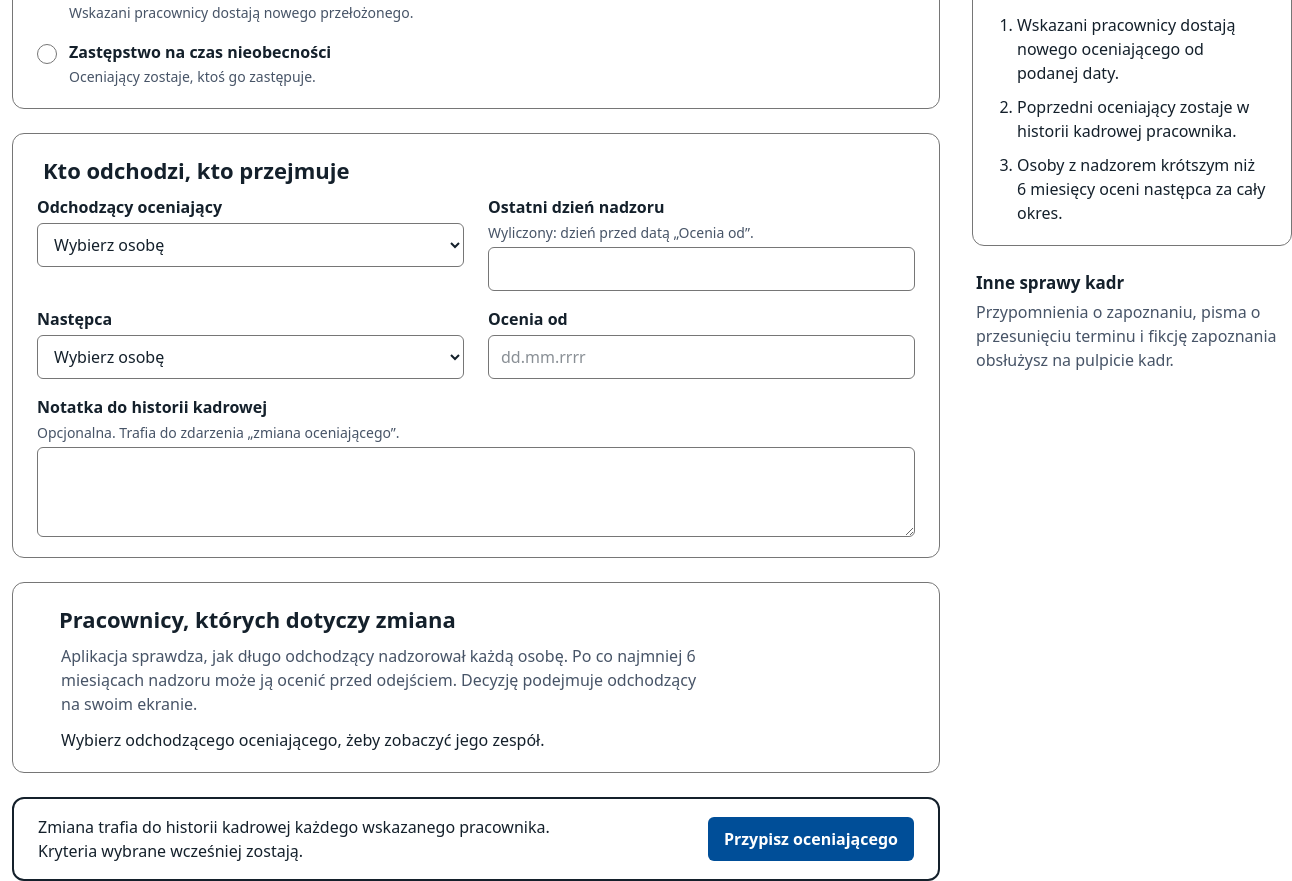
HrAssignPage › validates, then reassigns the selected reports to the successor
The image size is (1292, 881).
(page scrolled)
Click the button "Przypisz oceniającego" at [811, 839], box [708, 817, 914, 861]
(page scrolled)
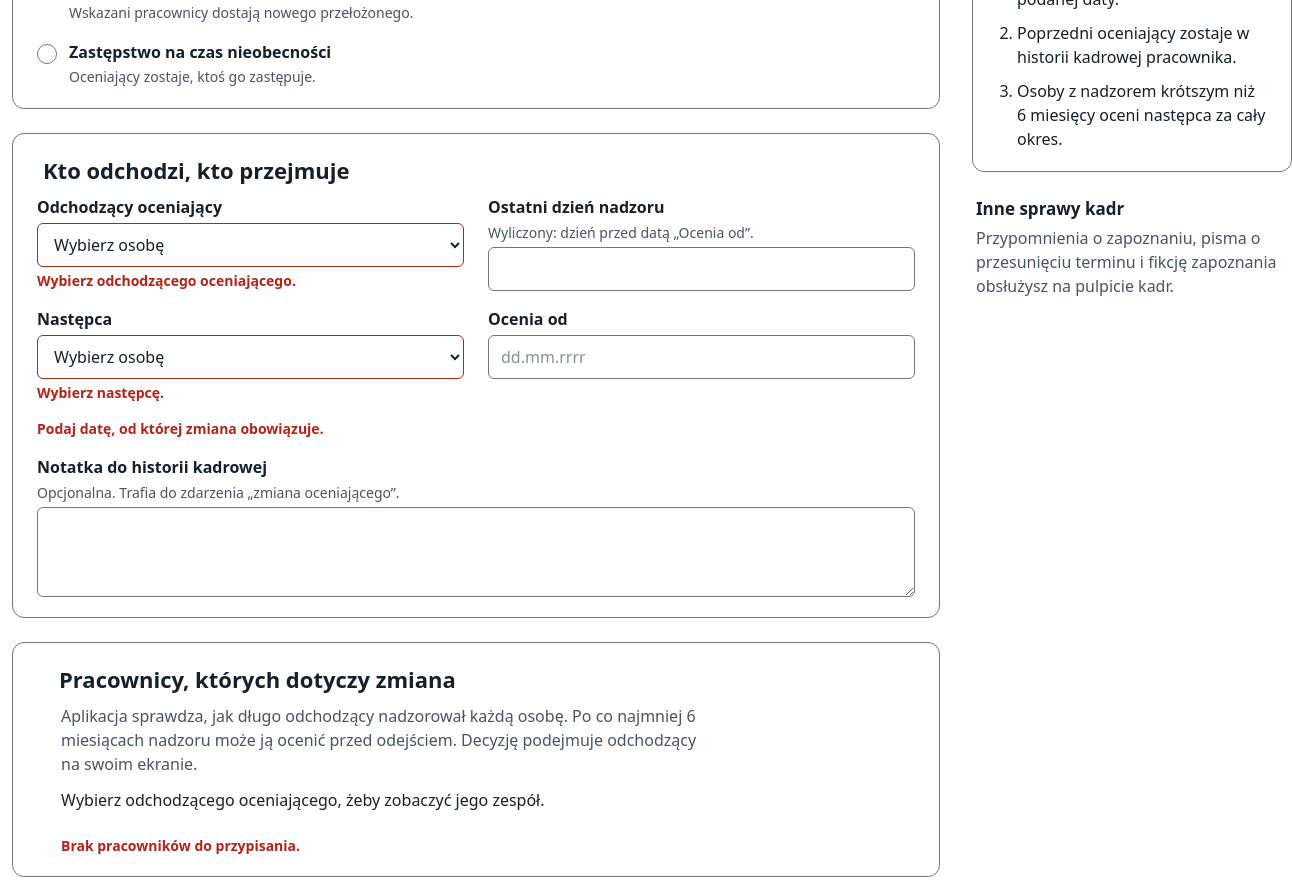
Now the text "Wybierz odchodzącego oceniającego." is shown, box [37, 271, 296, 290]
Select "Marta Test, Specjalista" in the dropdown labelled "Odchodzący oceniający" at [250, 245], box [37, 223, 464, 267]
(page scrolled)
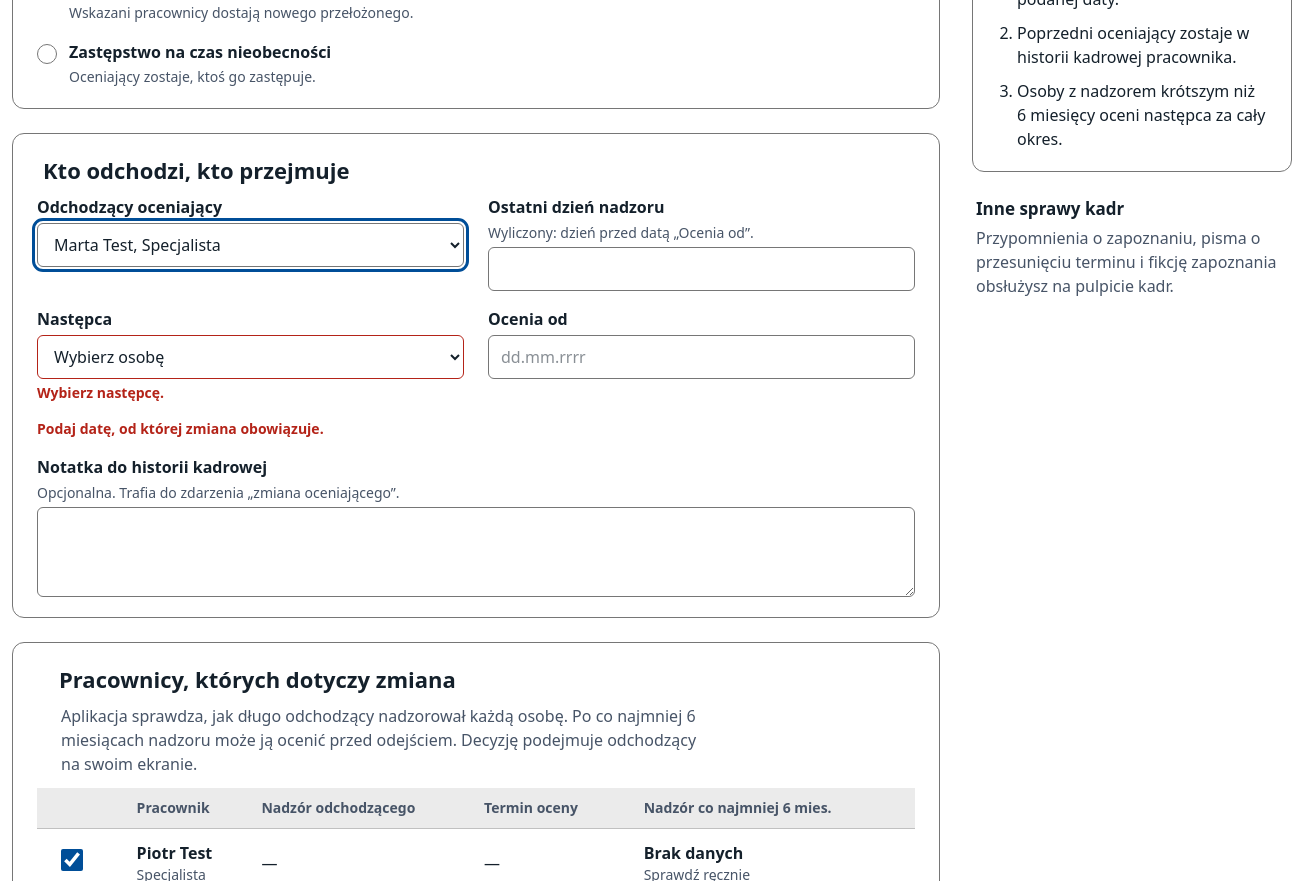
Select "Robert Test, Specjalista" in the dropdown labelled "Następca" at [250, 357], box [37, 335, 464, 379]
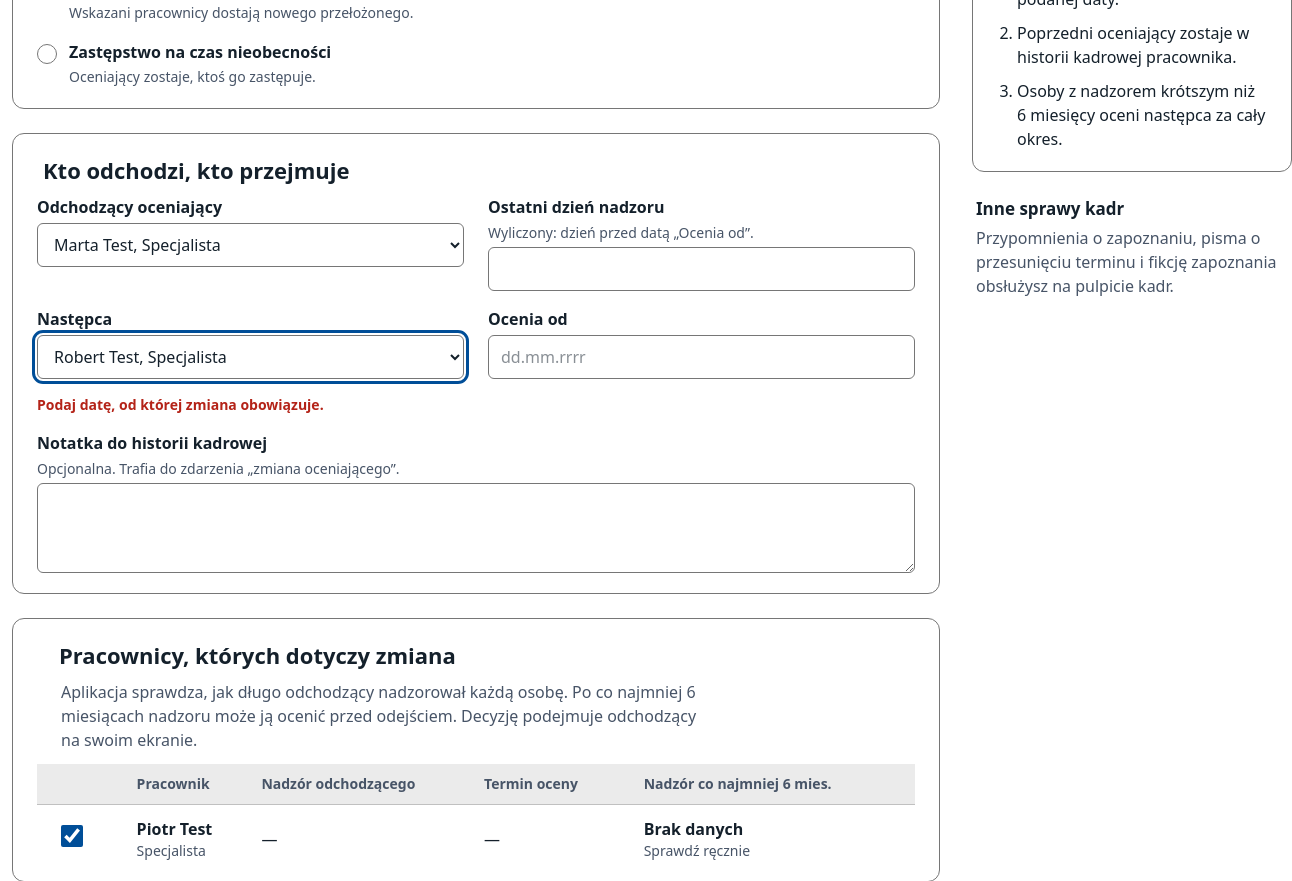
Type "01.01.2027" into the field labelled "Ocenia od" at [702, 357], box [488, 335, 915, 379]
(page scrolled)
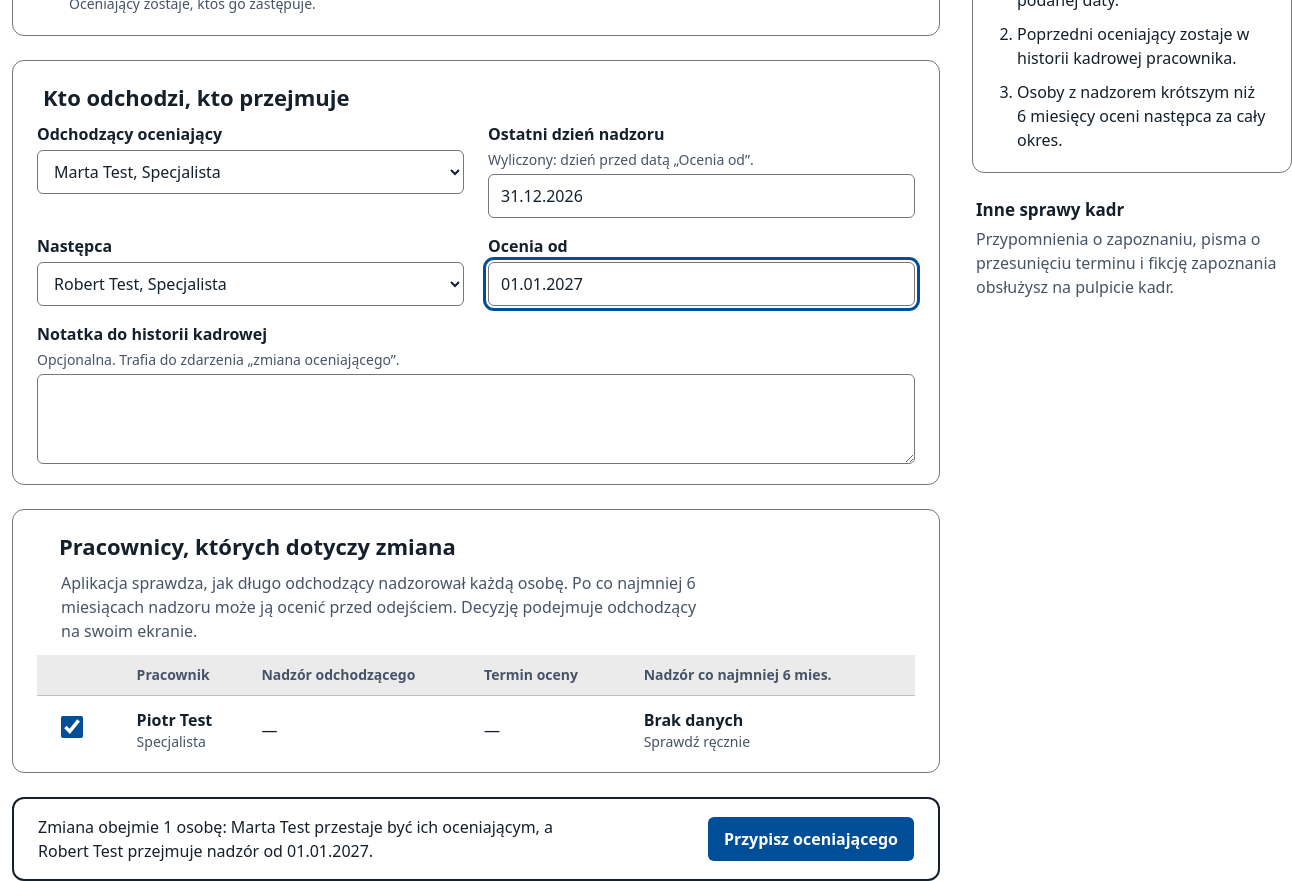
Click the button "Przypisz oceniającego" at [811, 839], box [708, 817, 914, 861]
(page scrolled)
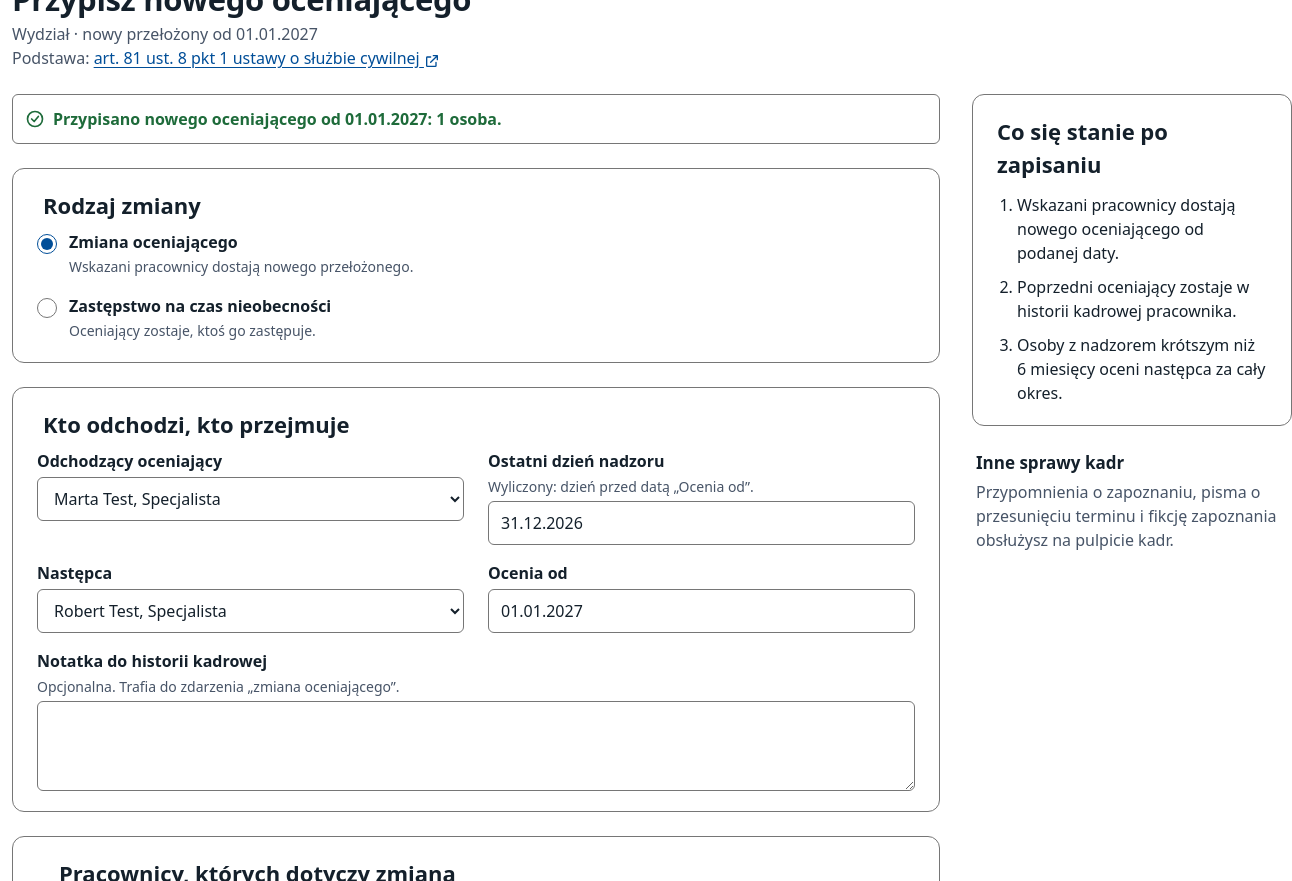
Now the text "Przypisano nowego oceniającego od 01.01.2027: 1 osoba." is shown, box [53, 107, 502, 131]
